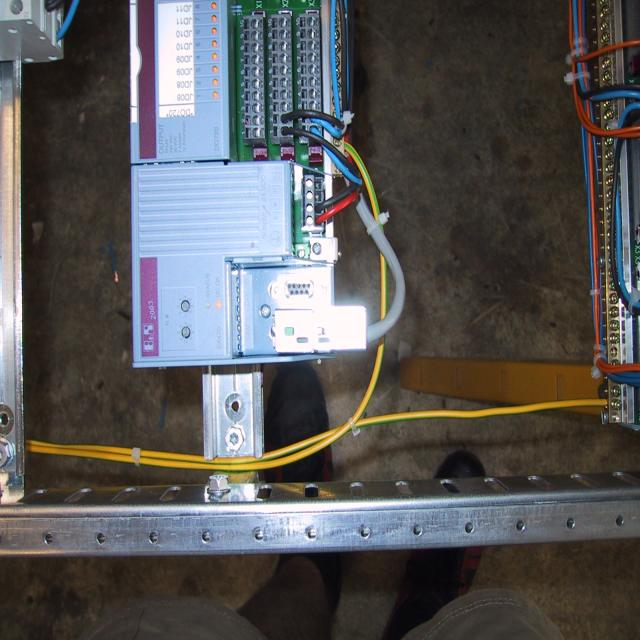SPS_System_Steuerungskomponente: (131, 166, 290, 365), (129, 0, 231, 164)
